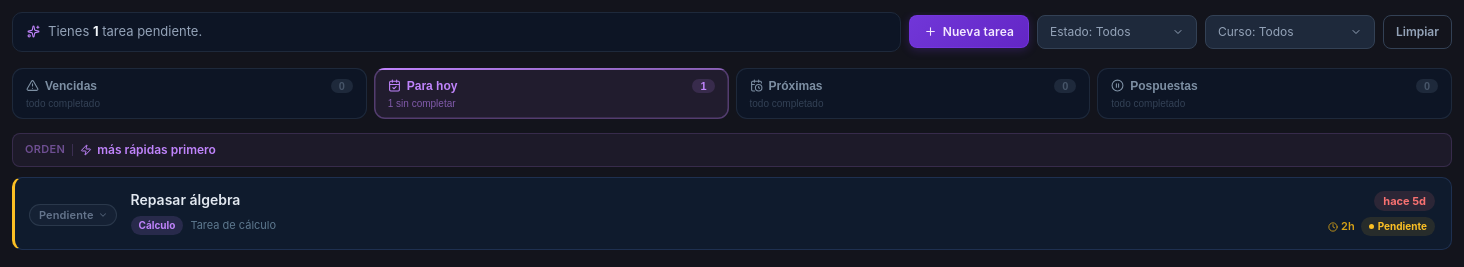
Test: TodayKanban — filtros › filtra por estado
Click the button with test id "today-status-filter-btn" at x=1117, y=32, box [1037,15,1197,49]
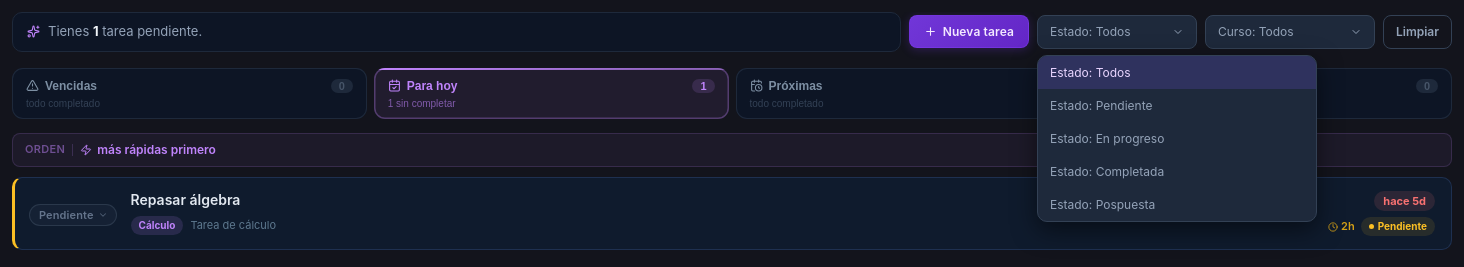
Click the button with test id "today-status-filter-option-completed" at x=1073, y=171, box [1038,155,1316,188]
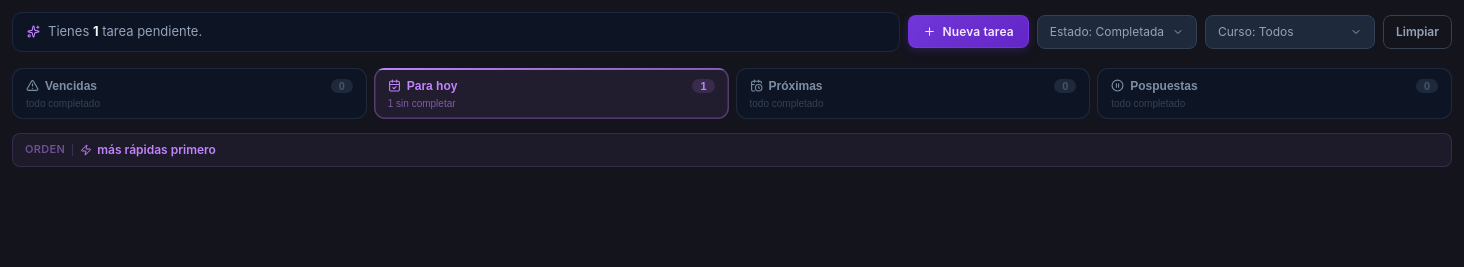
Result: the button with test id "today-status-filter-btn" shows "Completada" at [1037,15,1197,49]
